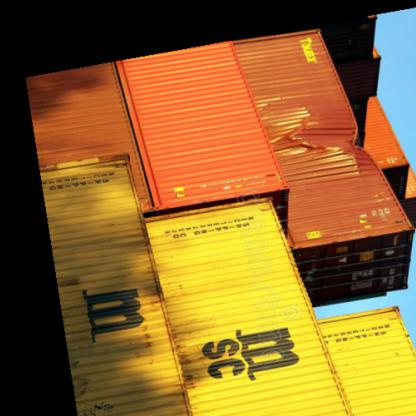Damage: (288, 103, 370, 168)
